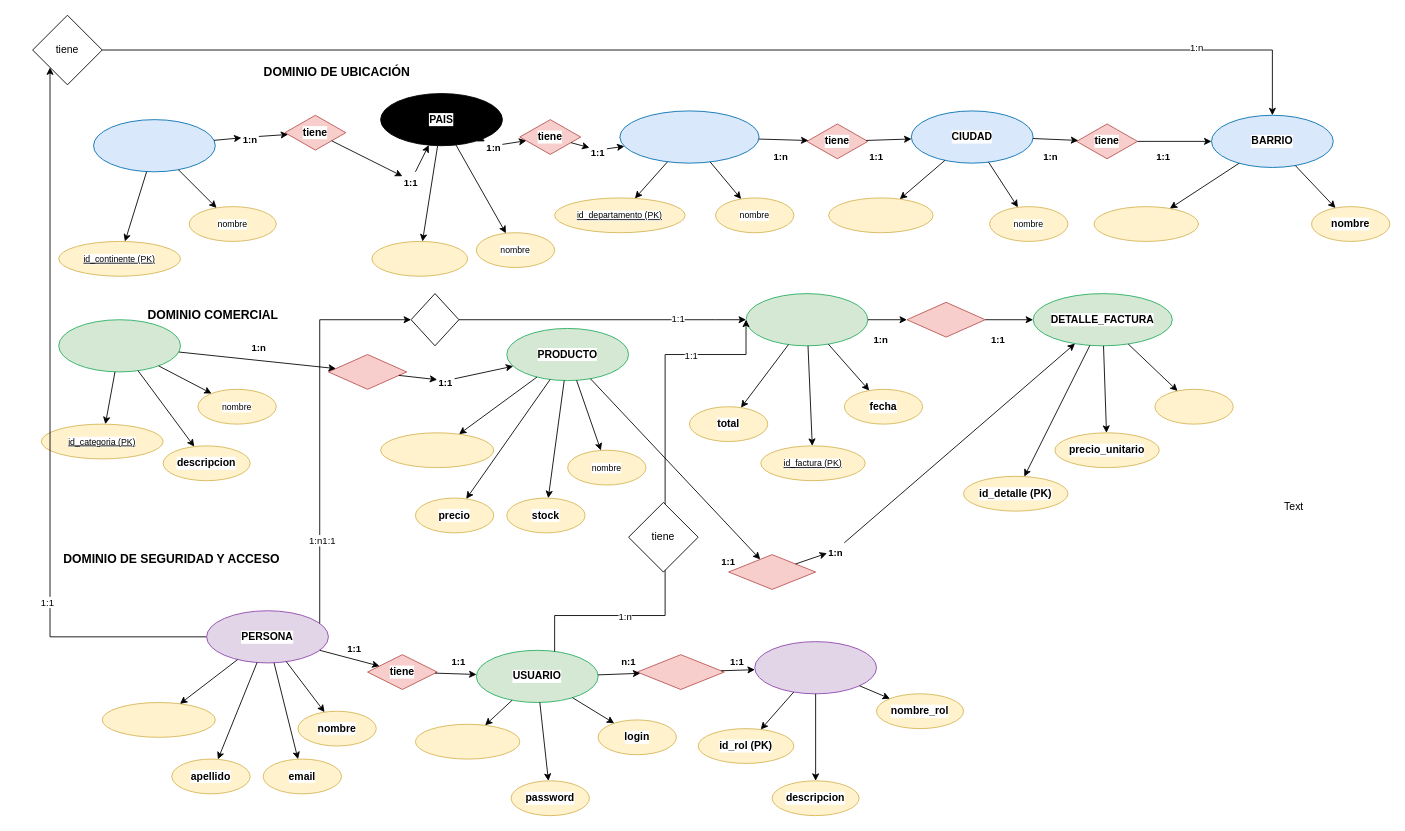
This 1405x831 diagram has some shape labels left out. The box of each missing label's shape, as (x1, y1, x2, y2) in pixels:
aparece en: (728, 554, 816, 589)
asignado a: (636, 654, 724, 689)
cantidad: (1154, 388, 1233, 424)
CATEGORIA: (58, 319, 181, 372)
clasifica: (328, 354, 407, 389)
contiene: (906, 301, 985, 337)
CONTINENTE: (93, 119, 215, 172)
DEPARTAMENTO: (619, 110, 759, 163)
FACTURA: (745, 293, 868, 346)
id_barrio (PK): (1093, 206, 1198, 241)
id_ciudad (PK): (828, 197, 933, 233)
id_pais (PK): (371, 241, 468, 276)
id_persona (PK): (101, 702, 215, 737)
id_producto (PK): (380, 432, 494, 468)
id_usuario (PK): (415, 723, 520, 759)
ROLES: (754, 641, 877, 694)
